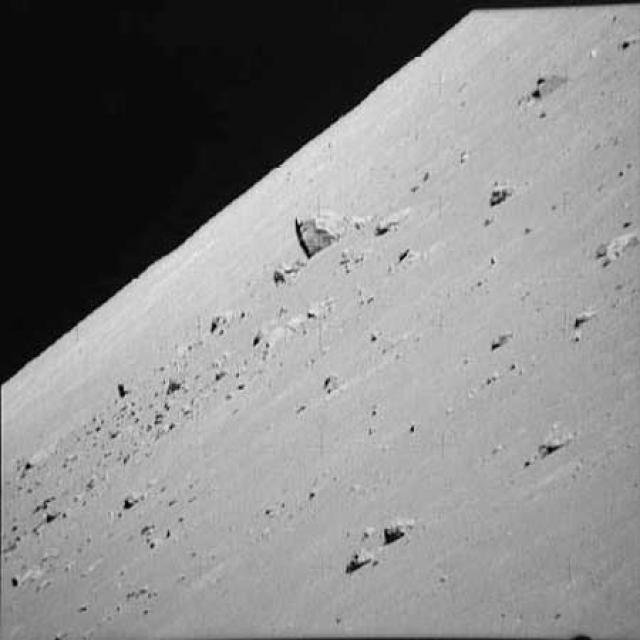rock: (276, 195, 353, 257), (586, 222, 639, 272), (528, 65, 573, 109), (259, 255, 313, 290), (368, 201, 416, 238), (530, 422, 572, 458), (339, 544, 384, 576), (380, 511, 420, 546), (205, 300, 240, 338), (483, 180, 524, 210), (118, 480, 151, 512), (606, 28, 638, 56)
